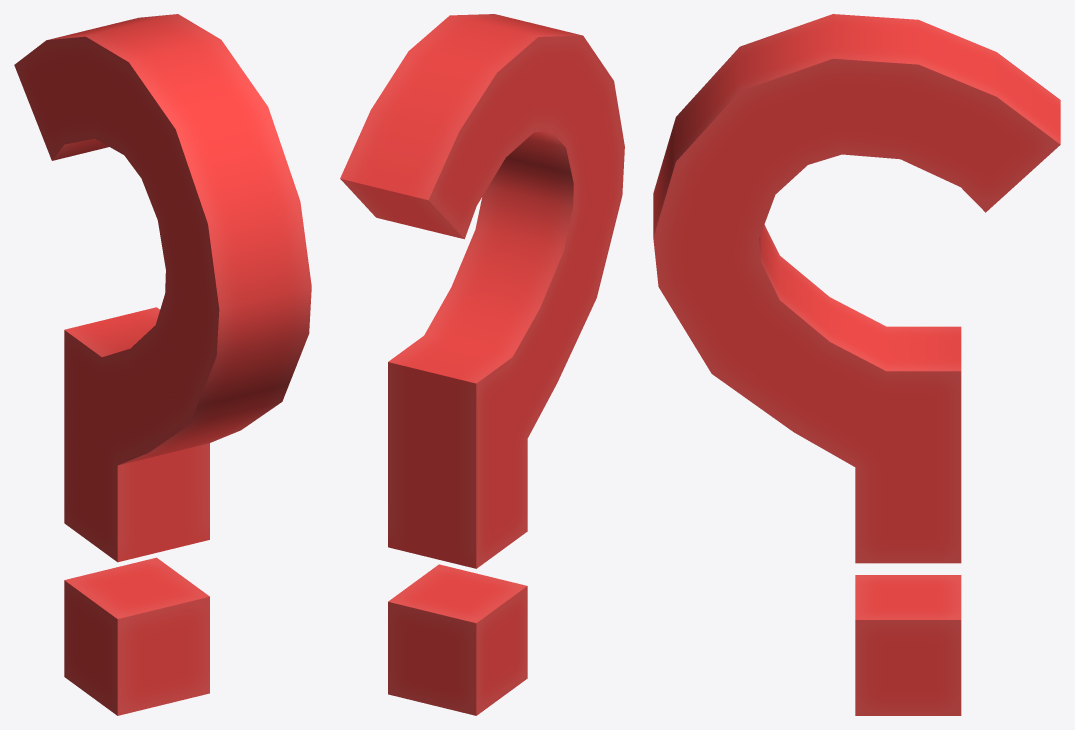
File: Que.fbx
3 views of the same model, side by side, from view 1: azimuth 30°, elevation 25°; view 2: azimuth 150°, elevation 25°; view 3: azimuth 270°, elevation 25° (orthographic). The views are drawn at different scales.
Visible parts, largest first — view 1: Box004, Box003; view 2: Box004, Box003; view 3: Box004, Box003.
Boxes of the visible parts, x1,y1,x2,y2 form: Box004: (14,14,311,562); Box003: (64,557,209,715); Box004: (340,14,624,568); Box003: (388,564,527,715); Box004: (653,14,1060,563); Box003: (855,575,961,715).
Size of the model in its own units: 11.81 by 80.79 by 45.38.
1 material, 1 textured.
